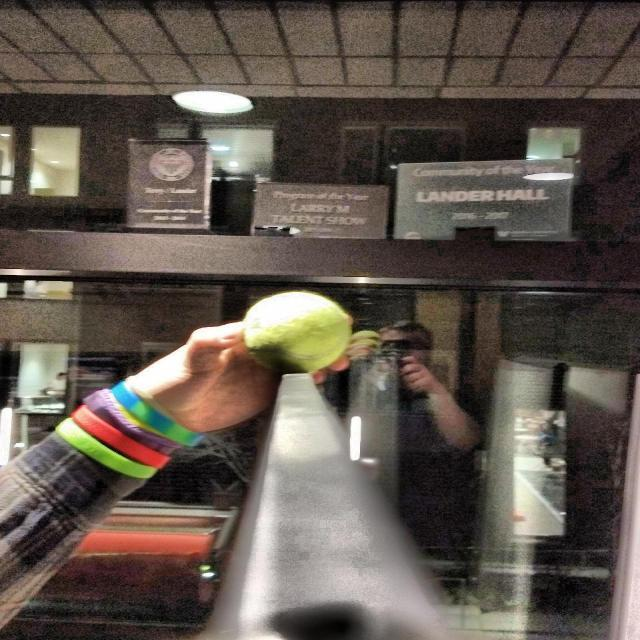tennis-ball: (236, 285, 356, 379)
